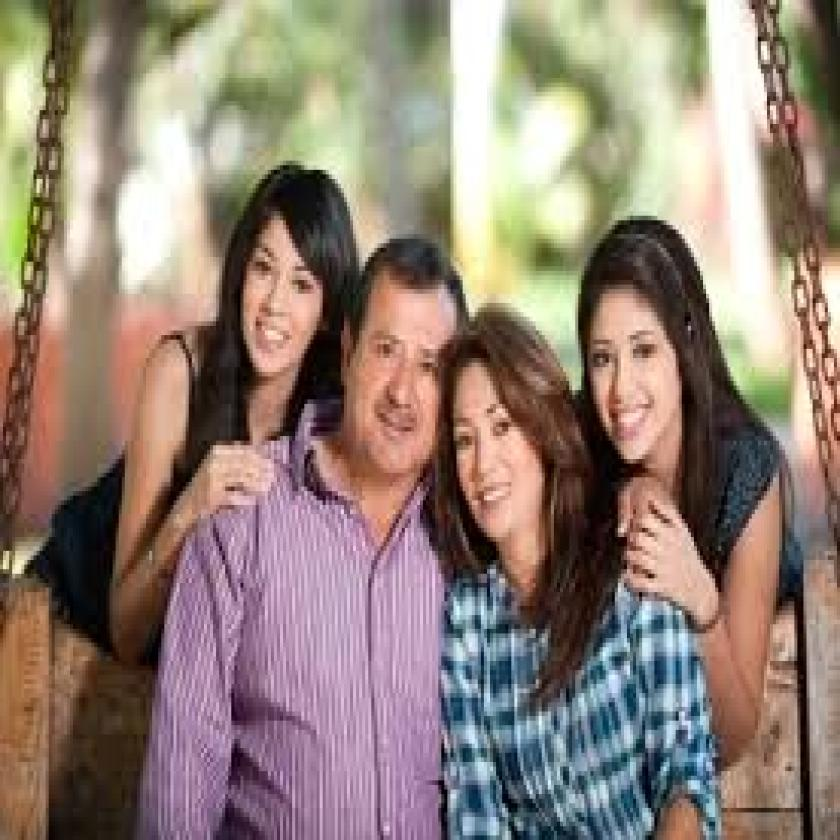Sin_casco: (580, 210, 721, 488), (228, 158, 349, 412), (444, 310, 558, 575), (355, 236, 464, 506)
